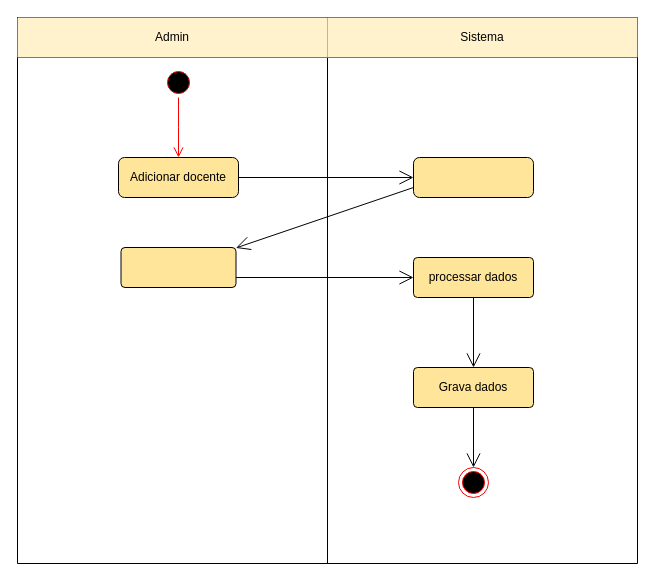
The diagram is 655 pixels wide and 581 high, and some of its shapes have lost their labels. The shapes that lost their labels are listed below. From the top down, each one's box as (x1, y1, x2, y2) in pixels, then its label:
(412, 156, 534, 198): Requisitar dados do docente
(120, 246, 236, 288): adicionar dados do docente
